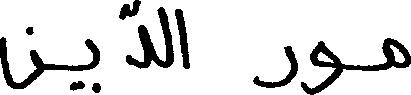X: (0, 22, 40, 93), (253, 41, 295, 92), (310, 36, 341, 94), (128, 0, 149, 73), (385, 33, 410, 74), (158, 2, 172, 72), (175, 4, 188, 73), (86, 34, 98, 94)
